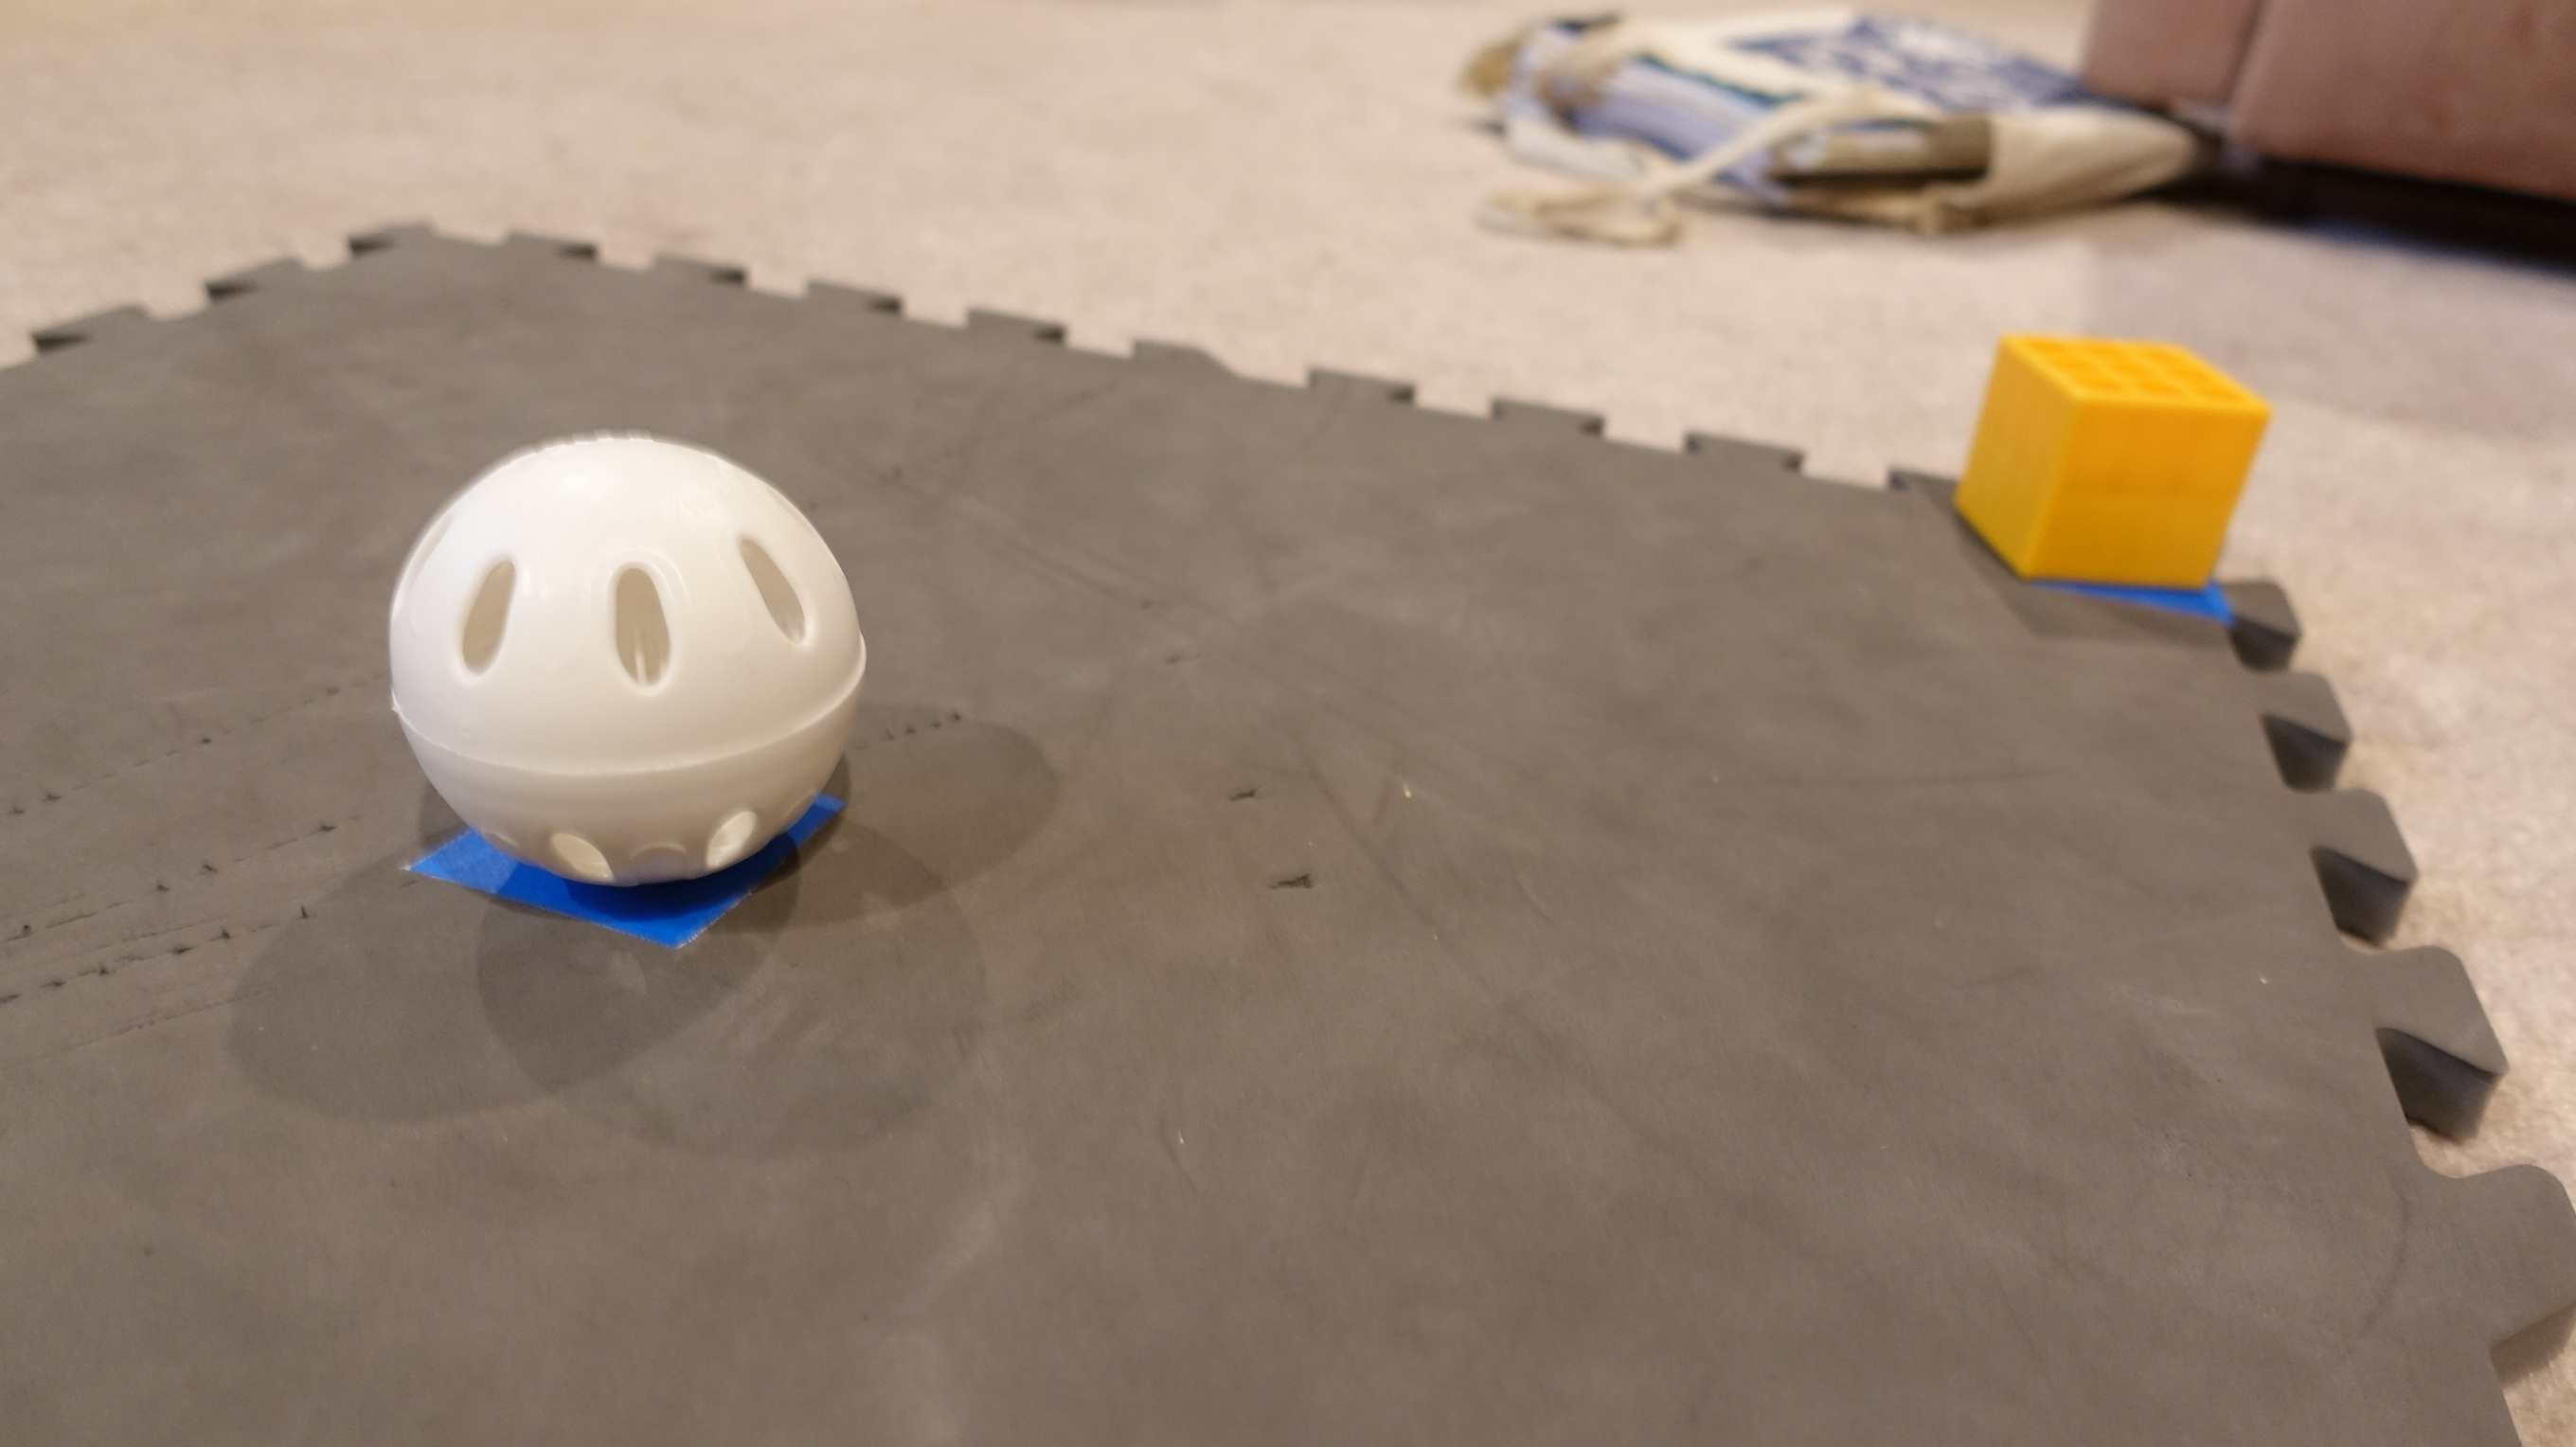gold: (1957, 333, 2270, 600)
silver: (380, 432, 878, 886)
